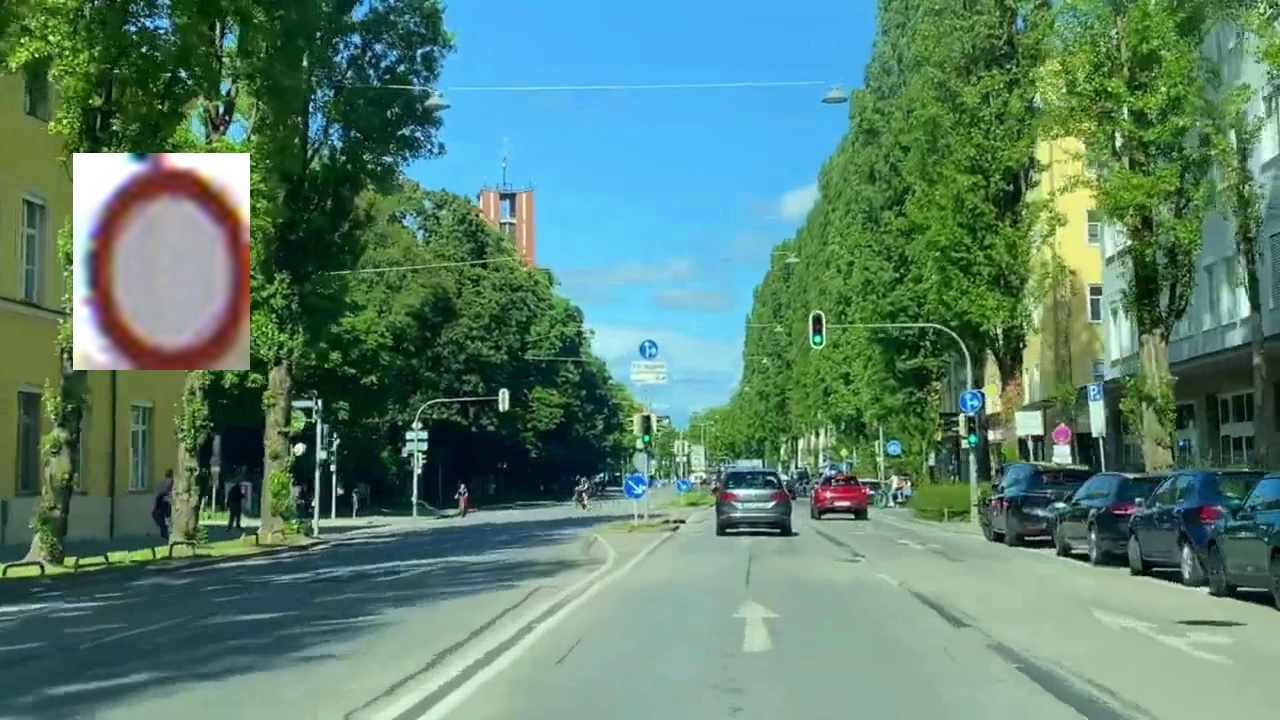No vehicles: (73, 153, 250, 370)
